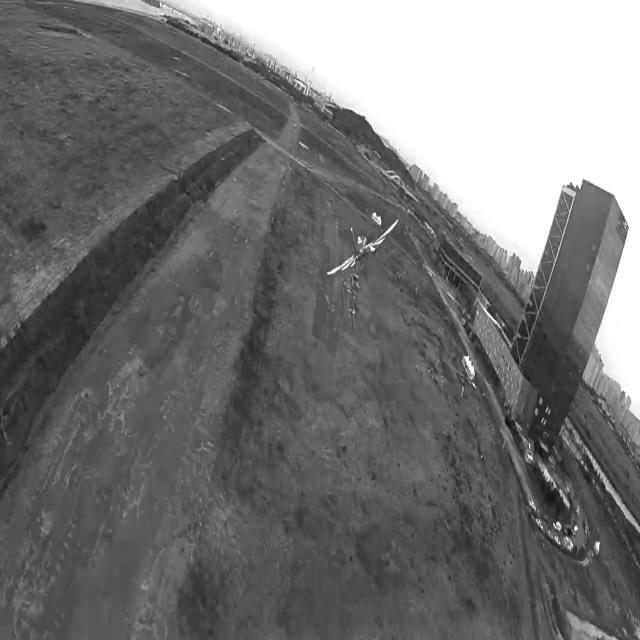iha: (353, 231, 376, 244)
